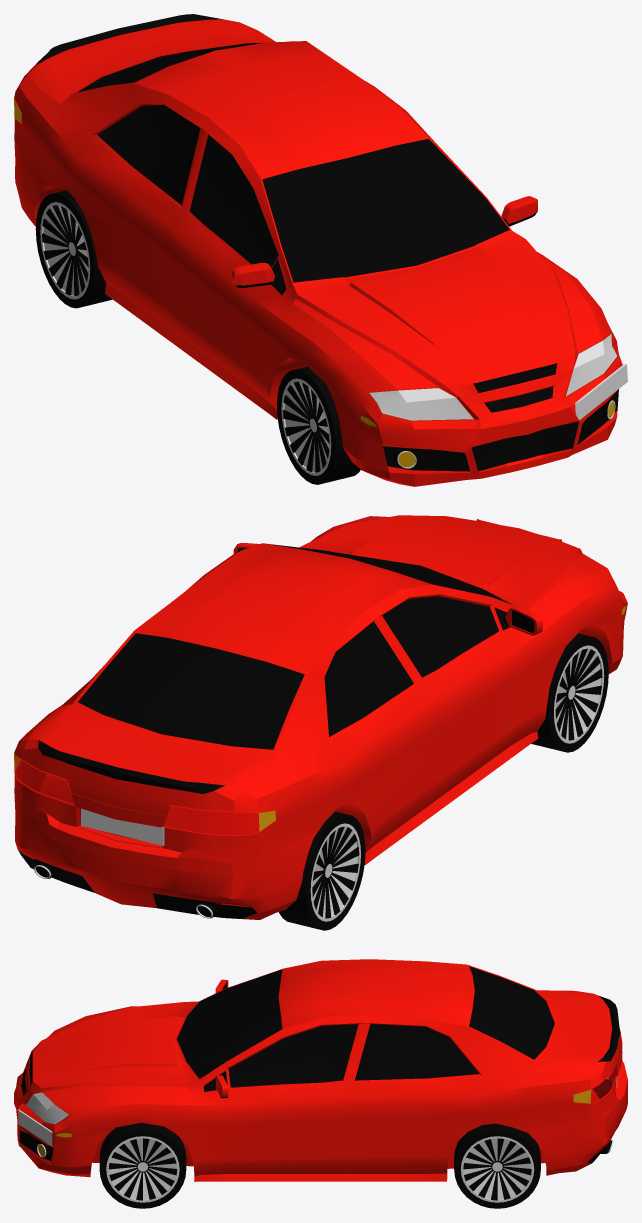
The model's file is mazda 6 MPS_2.fbx.
3 views of the same model, one above another, from view 1: azimuth 30°, elevation 25°; view 2: azimuth 150°, elevation 25°; view 3: azimuth 270°, elevation 25° (orthographic). The views are drawn at different scales.
Visible parts, largest first — view 1: body, front right wheel, back right wheel.001, mirrors, number front, fog lights; view 2: body, back right wheel.001, front right wheel, number back, mirrors; view 3: body, front left wheel.001, back left wheel, number front, mirrors.
Boxes of the visible parts, x1=… form: body: x1=14, y1=14, x2=622, y2=486; front right wheel: x1=277, y1=366, x2=360, y2=484; back right wheel.001: x1=35, y1=190, x2=112, y2=308; mirrors: x1=232, y1=196, x2=537, y2=287; number front: x1=575, y1=364, x2=627, y2=419; fog lights: x1=393, y1=398, x2=615, y2=469; body: x1=14, y1=515, x2=627, y2=919; back right wheel.001: x1=279, y1=811, x2=365, y2=930; front right wheel: x1=531, y1=633, x2=608, y2=752; number back: x1=81, y1=808, x2=164, y2=845; mirrors: x1=233, y1=543, x2=542, y2=635; body: x1=14, y1=959, x2=627, y2=1181; front left wheel.001: x1=99, y1=1123, x2=186, y2=1208; back left wheel: x1=454, y1=1123, x2=540, y2=1208; number front: x1=18, y1=1109, x2=52, y2=1146; mirrors: x1=214, y1=979, x2=228, y2=1098.
Size of the model in its own units: 159 by 120 by 379.
